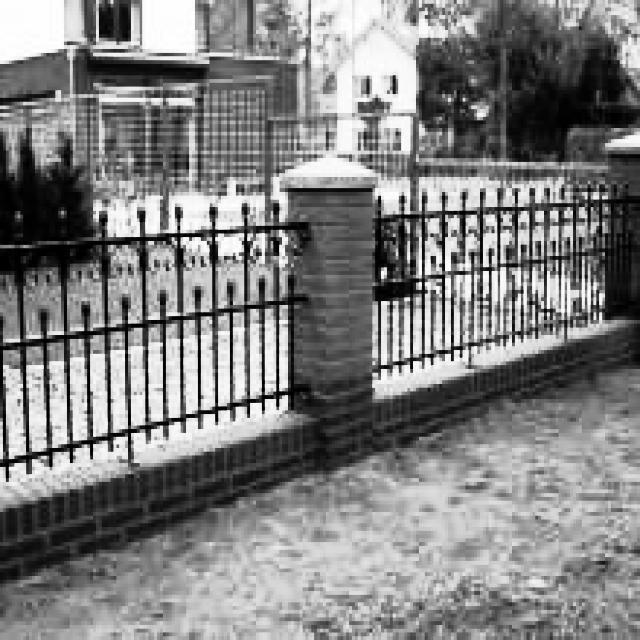fences: (0, 222, 294, 429), (375, 192, 636, 341)
